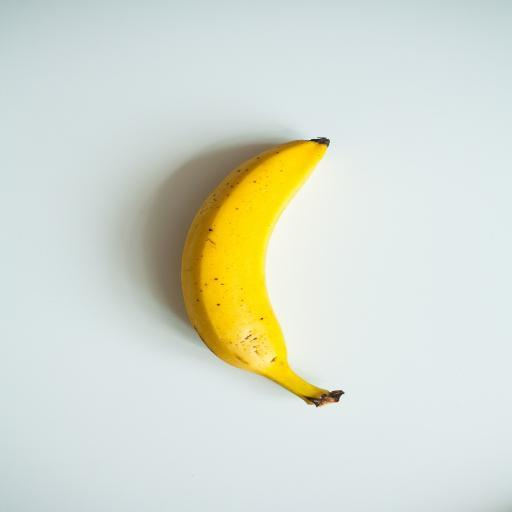banana: (182, 138, 343, 406)
